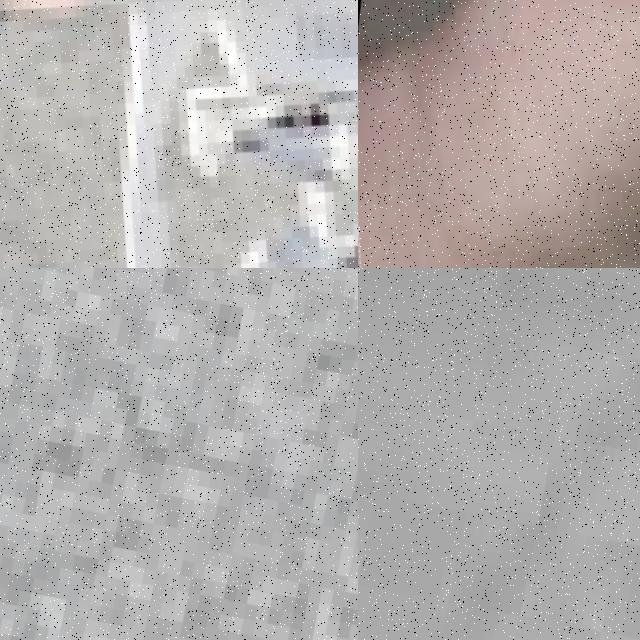0: (0, 0, 358, 268)
drone: (358, 0, 640, 268)
